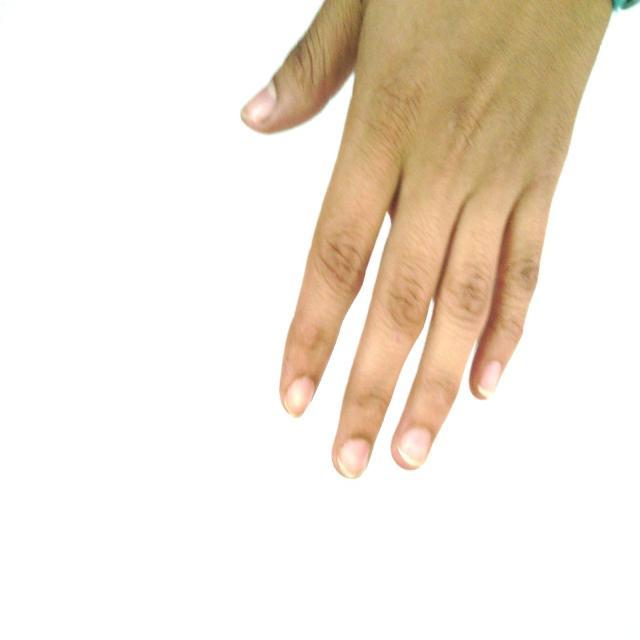Fingernail: (243, 86, 275, 125), (399, 428, 431, 466), (339, 440, 369, 478), (286, 379, 314, 415), (478, 362, 501, 397)
